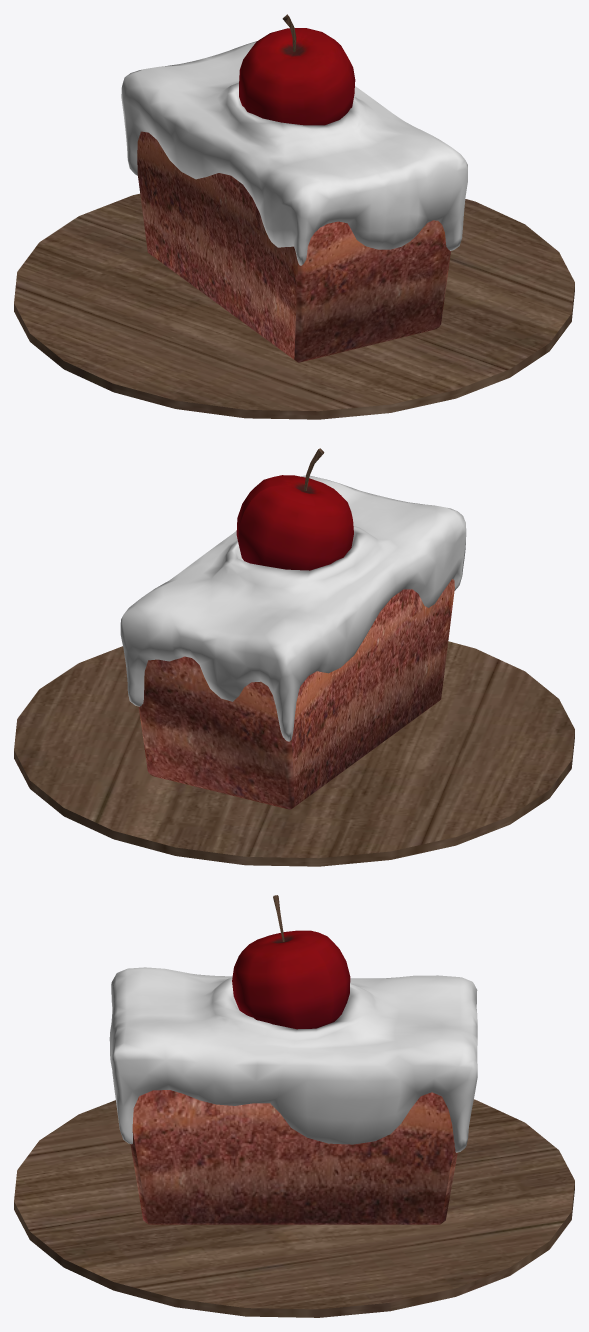
File: cake_with_cherry.glb
The picture shows the model from 3 angles, top to bottom: view 1: azimuth 30°, elevation 25°; view 2: azimuth 150°, elevation 25°; view 3: azimuth 270°, elevation 25°; orthographic projection.
Parts seen in each view (by area): view 1: Object_4, Object_10, Object_7, Object_17; view 2: Object_4, Object_10, Object_7, Object_17; view 3: Object_4, Object_10, Object_7, Object_17.
Part boxes in pixels (left/top/right/bottom): Object_4: left=14, top=14, right=574, bottom=419; Object_10: left=121, top=41, right=467, bottom=265; Object_7: left=137, top=131, right=450, bottom=362; Object_17: left=239, top=28, right=355, bottom=125; Object_4: left=14, top=448, right=574, bottom=866; Object_10: left=120, top=475, right=466, bottom=741; Object_7: left=138, top=579, right=454, bottom=809; Object_17: left=236, top=475, right=353, bottom=570; Object_4: left=14, top=895, right=574, bottom=1317; Object_10: left=109, top=967, right=477, bottom=1152; Object_7: left=130, top=1090, right=457, bottom=1224; Object_17: left=232, top=930, right=350, bottom=1029.
Size of the model in its own units: 1.2 by 0.6978 by 1.2.
4 materials, 4 textured.
